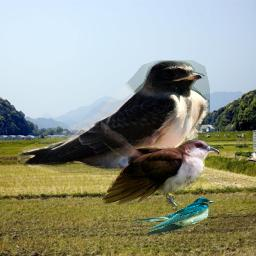Cuckoo: (101, 93, 221, 210)
Swallow: (15, 60, 210, 175), (130, 197, 214, 235)
